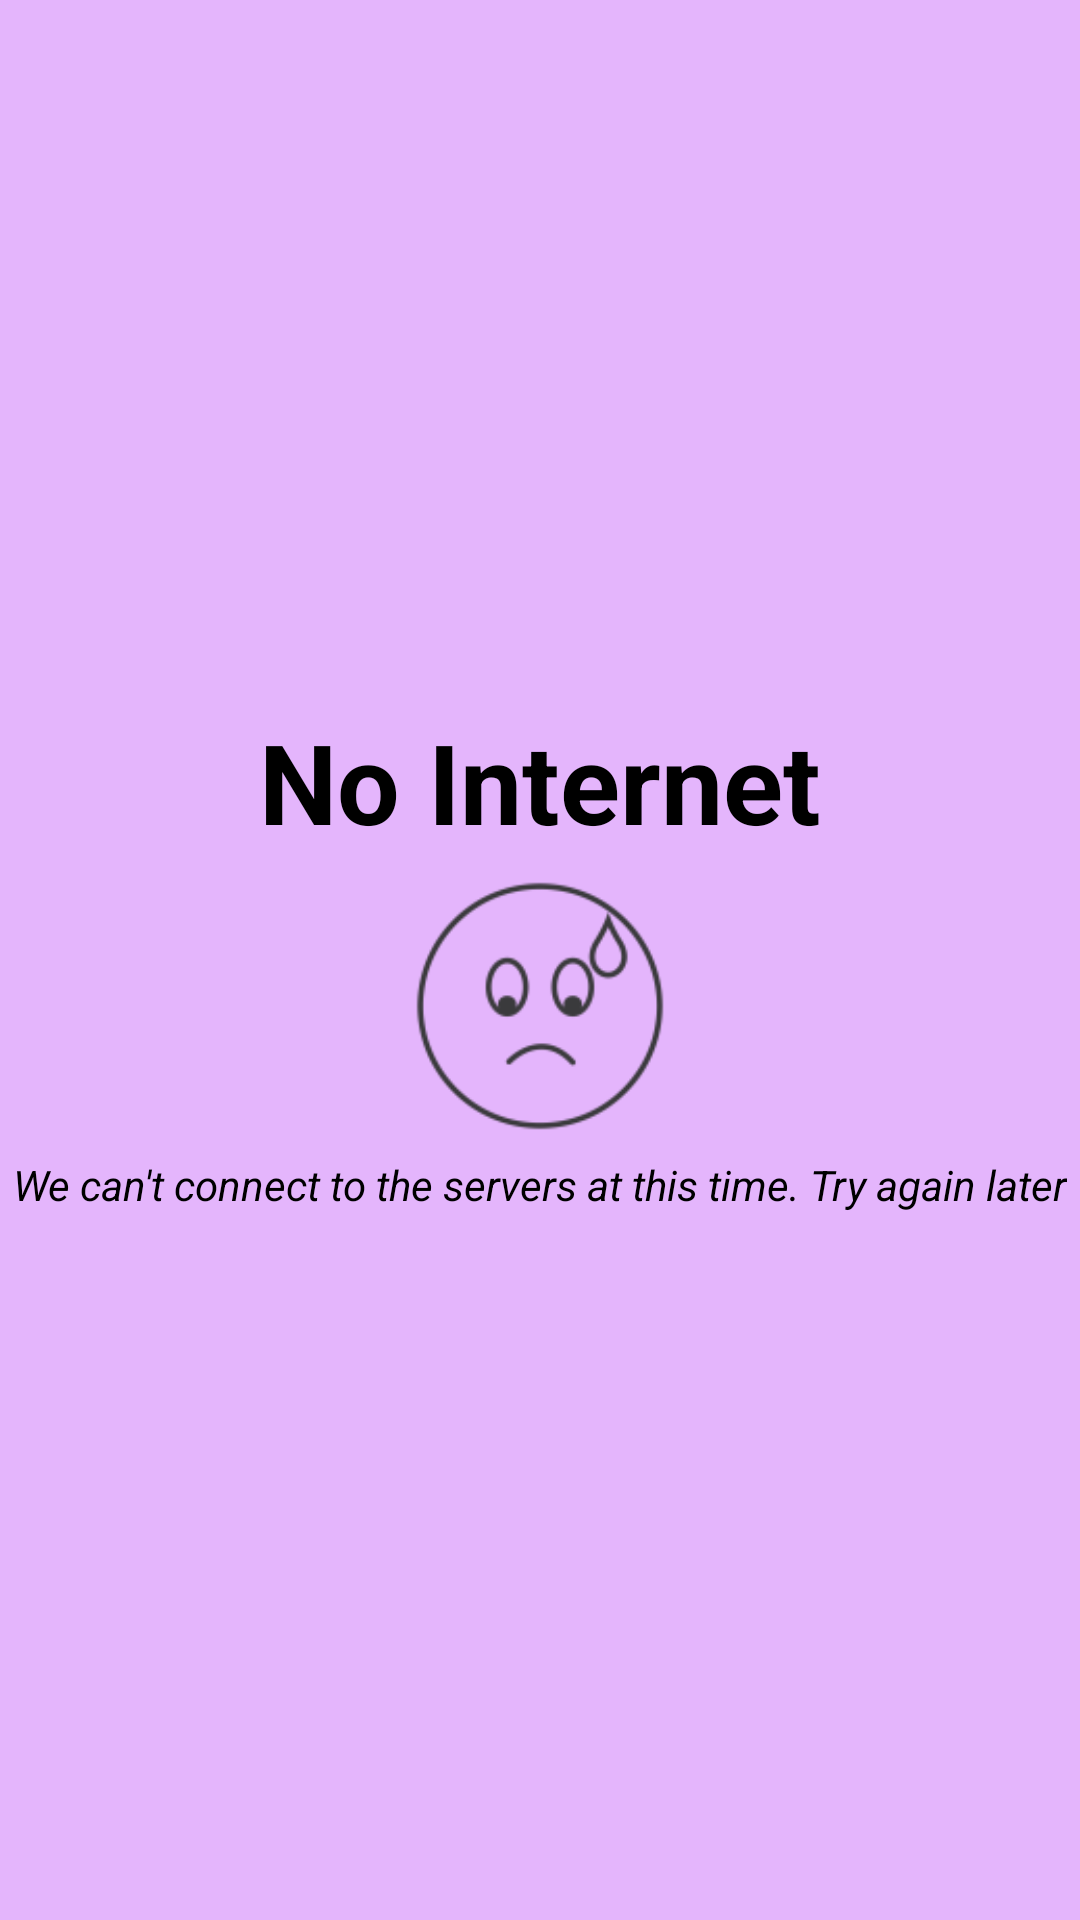

Screen size 1080px×1920px. Icon name, then its center in pixels as [x,y]:
frown: [540,1006]
